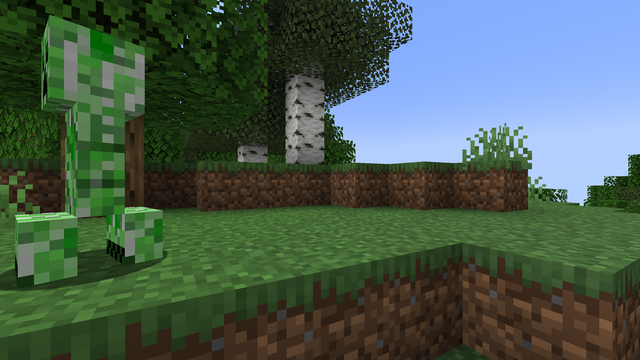creepers: (13, 4, 145, 285)
